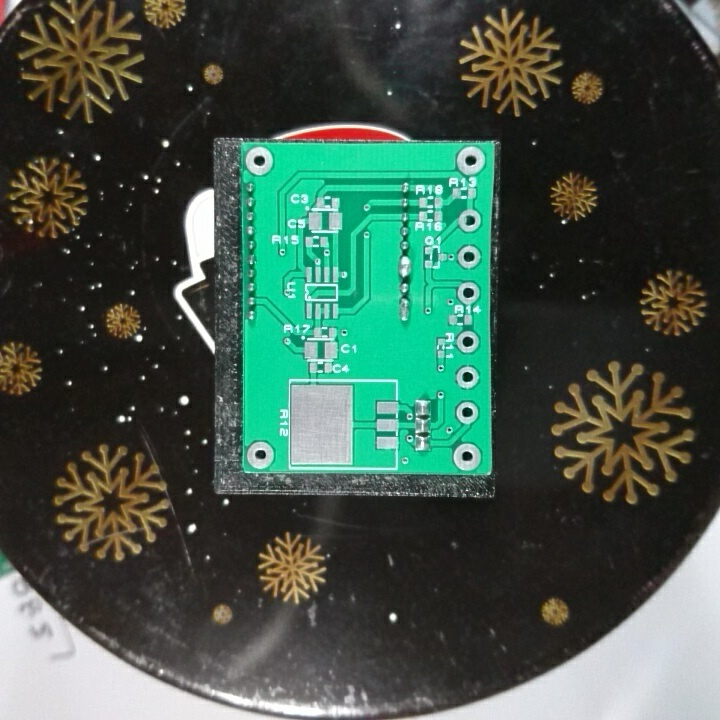F: (244, 144, 277, 179), (455, 144, 488, 178), (244, 438, 279, 470), (451, 442, 483, 472), (453, 328, 484, 358), (455, 243, 485, 272), (453, 363, 482, 393), (455, 207, 485, 235), (453, 398, 482, 426), (455, 279, 482, 307)
P: (396, 253, 415, 279), (397, 295, 414, 322)
